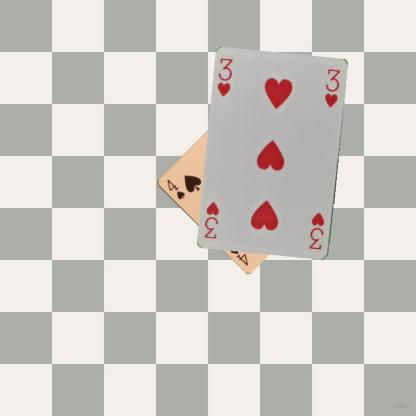3h: (215, 56, 235, 98), (306, 210, 326, 251)
4s: (164, 177, 186, 201)
